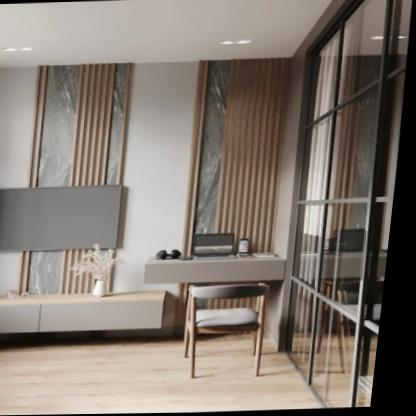Wall Panel: (0, 52, 296, 311)
